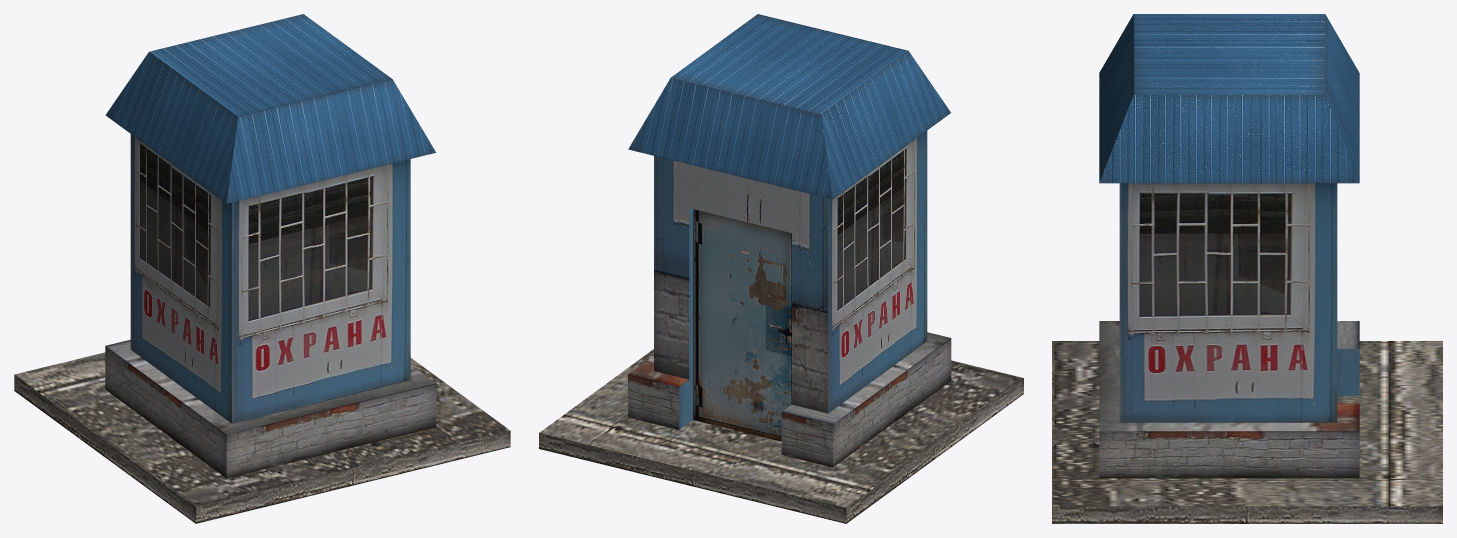
File: r254_most_ohrana.FBX
The picture shows the model from 3 angles, left to right: view 1: azimuth 30°, elevation 25°; view 2: azimuth 150°, elevation 25°; view 3: azimuth 270°, elevation 25°; orthographic projection. The views are drawn at different scales.
Visible parts, largest first — view 1: r254_most_ohrana; view 2: r254_most_ohrana; view 3: r254_most_ohrana.
Part boxes in pixels (x1,y1,x2,y2): r254_most_ohrana: (14,14,510,523); r254_most_ohrana: (539,14,1023,523); r254_most_ohrana: (1052,14,1442,523).
Size of the model in its own units: 3 by 3 by 3.28.
